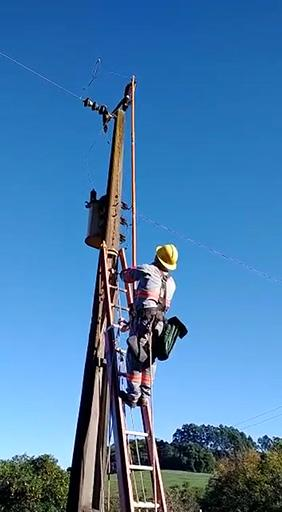Vara_Manobra: (128, 81, 139, 305)
